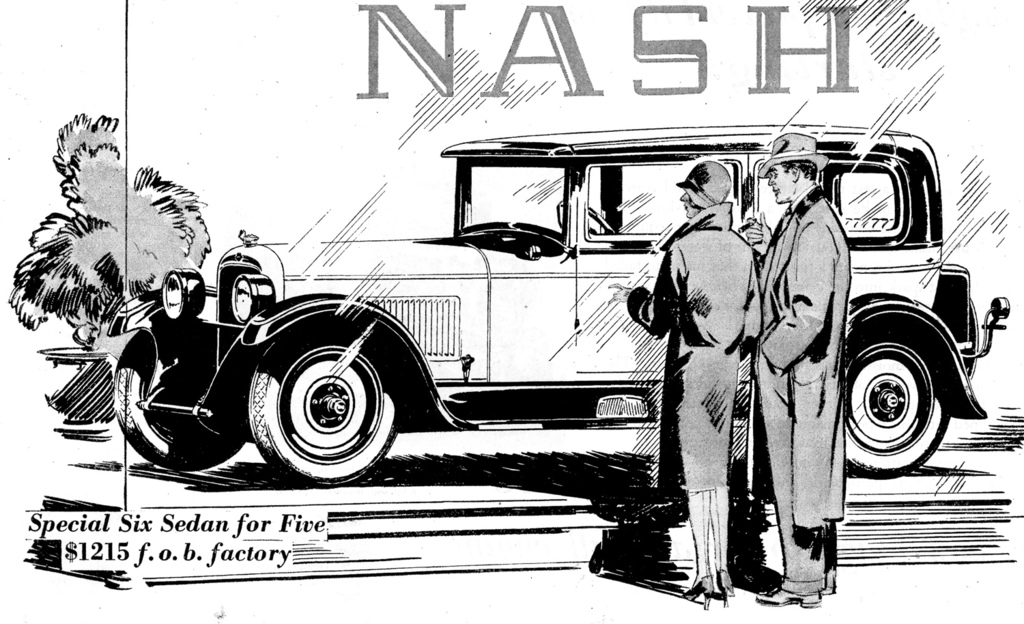Car: (40, 114, 1009, 484)
